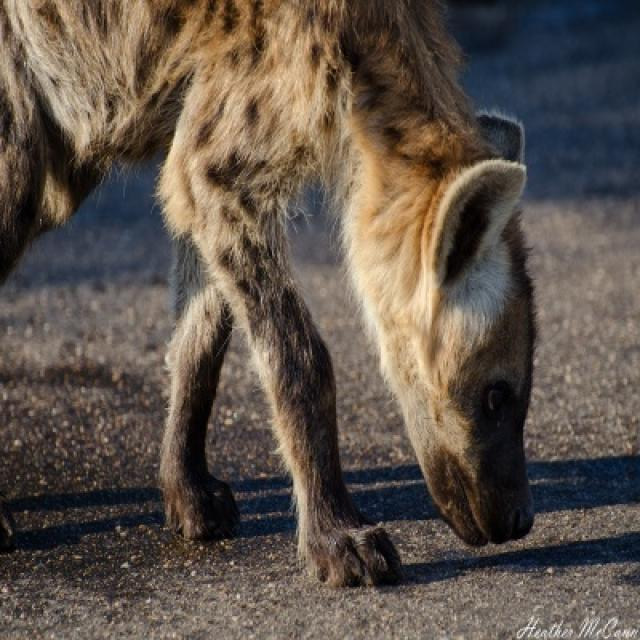hyena: (0, 0, 538, 592)
